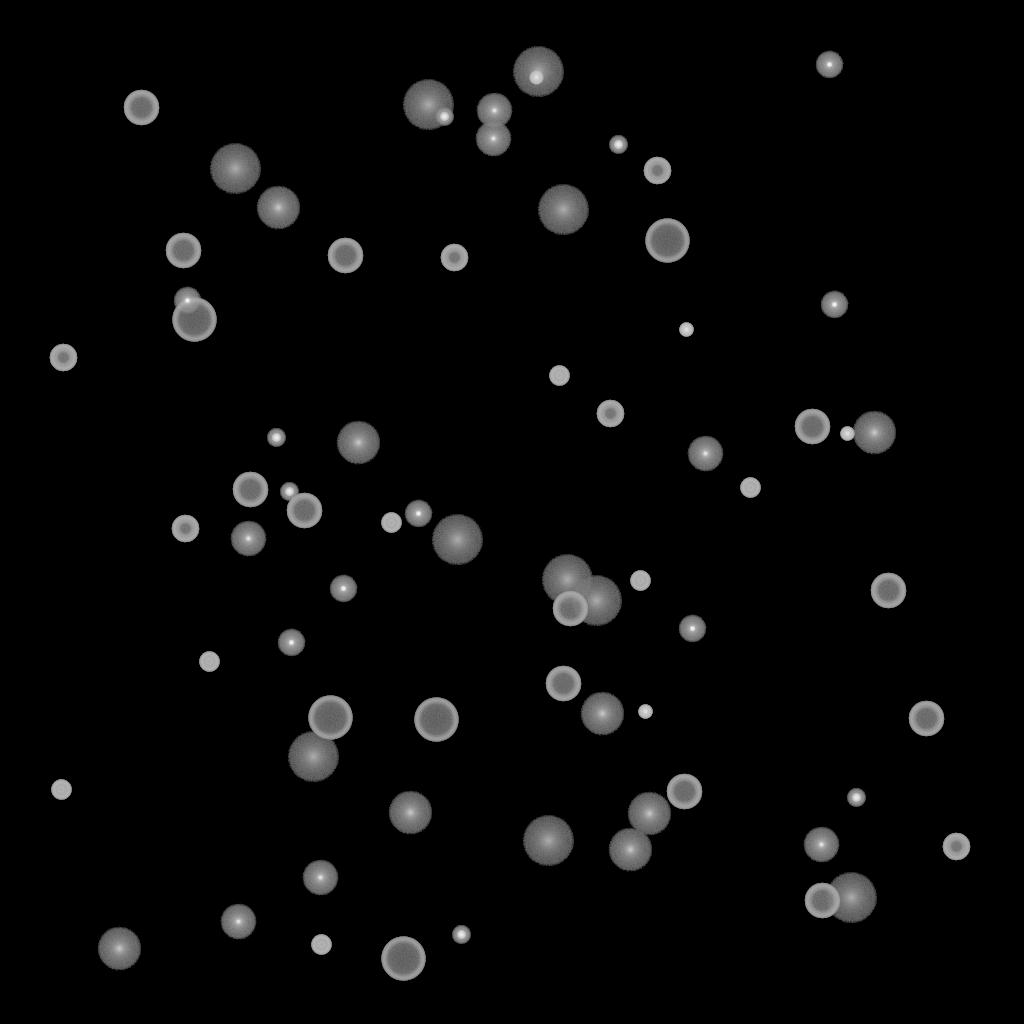depth:-10: (277, 629, 305, 657), (815, 51, 843, 79), (678, 615, 706, 643), (173, 287, 201, 315), (820, 291, 848, 319), (329, 575, 357, 603), (404, 500, 432, 528)
depth:-20: (267, 429, 285, 447), (609, 136, 627, 154), (847, 789, 865, 807), (435, 108, 453, 126), (280, 483, 298, 501), (452, 926, 470, 944)
depth:-30: (529, 71, 543, 85), (638, 705, 652, 719), (679, 323, 693, 337), (840, 427, 854, 441)
depth:-40: (740, 478, 760, 498), (381, 513, 401, 533), (311, 935, 331, 955), (51, 780, 71, 800), (199, 652, 219, 672), (549, 366, 569, 386), (630, 571, 650, 591)
depth:-50: (440, 244, 468, 272), (171, 515, 199, 543), (596, 400, 624, 428), (49, 344, 77, 372), (942, 833, 970, 861), (643, 157, 671, 185)
depth:-60: (666, 774, 702, 810), (123, 90, 159, 126), (545, 666, 581, 702), (794, 409, 830, 445), (286, 493, 322, 529), (870, 573, 906, 609), (804, 883, 840, 919), (552, 591, 588, 627), (232, 472, 268, 508), (165, 233, 201, 269), (908, 701, 944, 737), (327, 238, 363, 274)
depth:-70: (172, 298, 216, 342), (308, 696, 352, 740), (414, 698, 458, 742), (645, 219, 689, 263), (381, 937, 425, 981)
depth:0: (803, 827, 839, 863), (230, 521, 266, 557), (476, 93, 512, 129), (687, 436, 723, 472), (220, 904, 256, 940), (475, 121, 511, 157), (302, 860, 338, 896)
depth:10: (852, 411, 896, 455), (388, 791, 432, 835), (256, 186, 300, 230), (580, 692, 624, 736), (627, 792, 671, 836), (97, 927, 141, 971), (336, 421, 380, 465), (608, 828, 652, 872)
depth:20: (402, 80, 454, 130), (541, 555, 593, 605), (537, 185, 589, 235), (825, 873, 877, 923), (209, 144, 261, 194), (431, 515, 483, 565), (287, 732, 339, 782), (522, 816, 574, 866), (512, 47, 564, 97), (570, 576, 622, 626)
